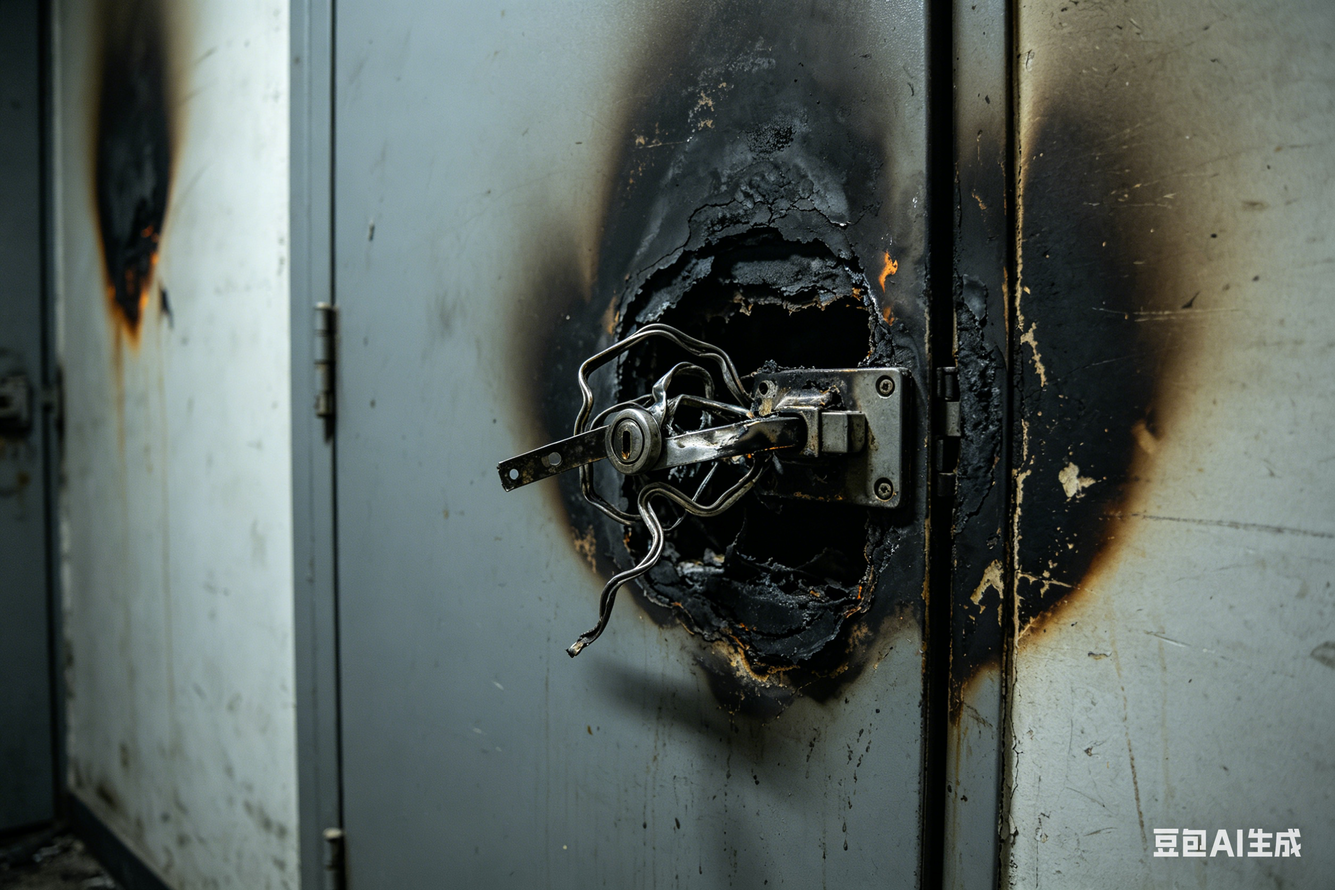BadLock: (500, 343, 908, 537)
